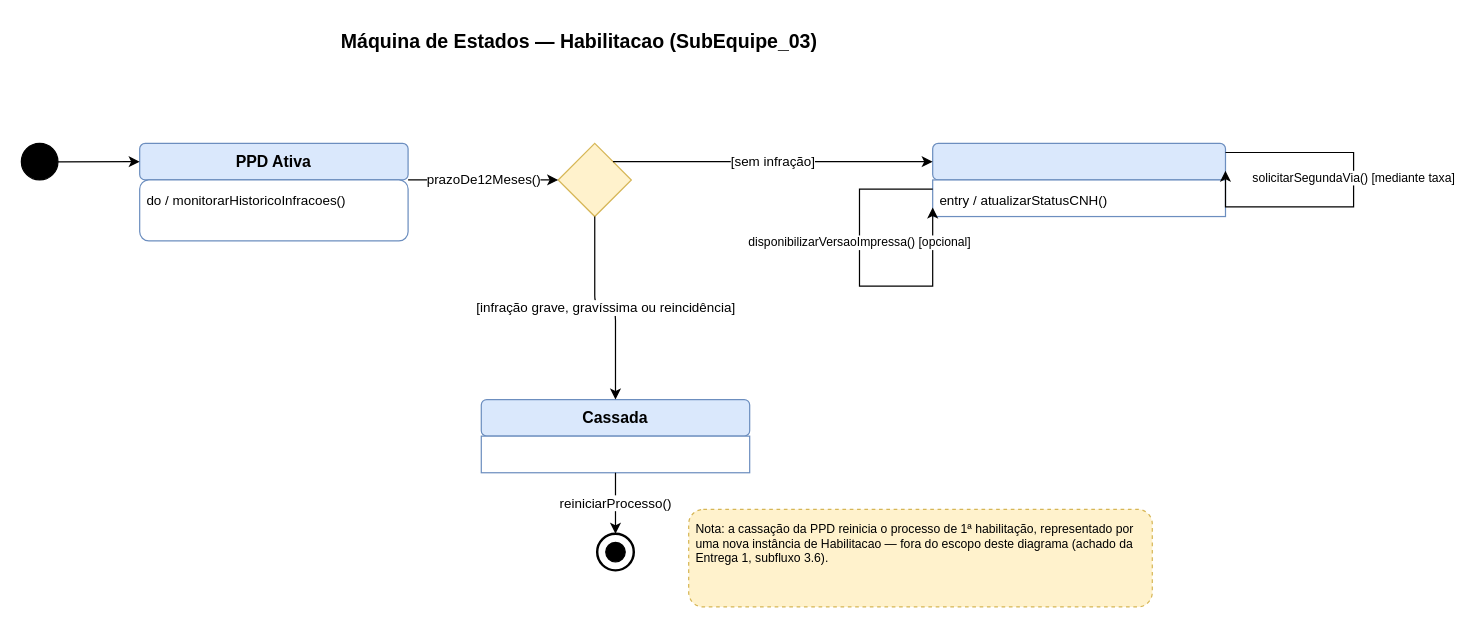
This 1476x628 diagram has some shape labels left out. Each missing label, with the centre of its shape:
Definitiva: point (1078, 161)
entry / notificarCondutor(): point (615, 454)
